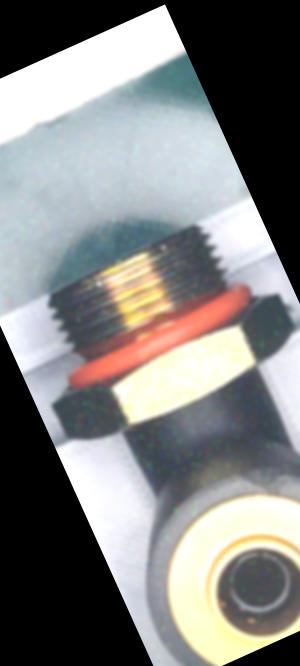bump: (226, 443, 298, 508)
joint line: (182, 399, 214, 448)
